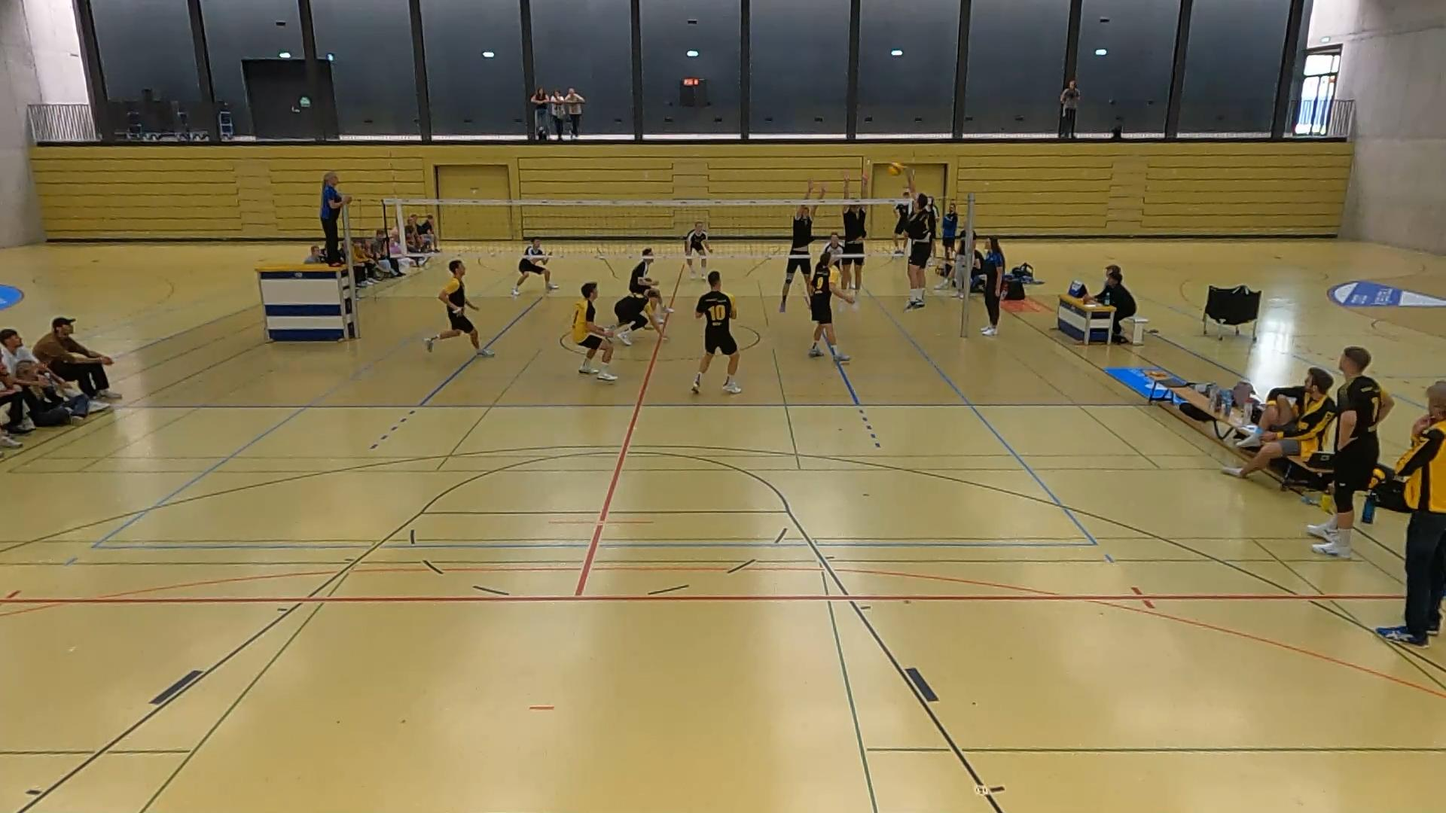attacco: (880, 157, 939, 319)
muro: (776, 166, 821, 305), (838, 157, 874, 296)
